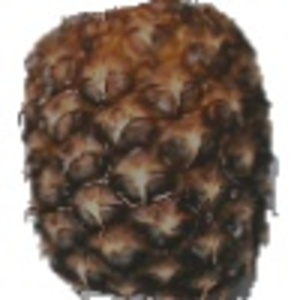abacaxi: (16, 2, 281, 297)
